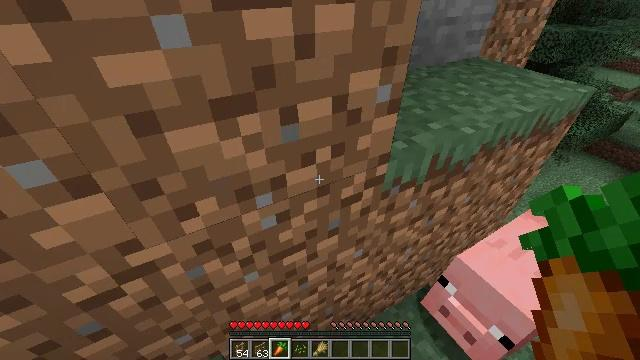pig: (422, 205, 537, 360)
